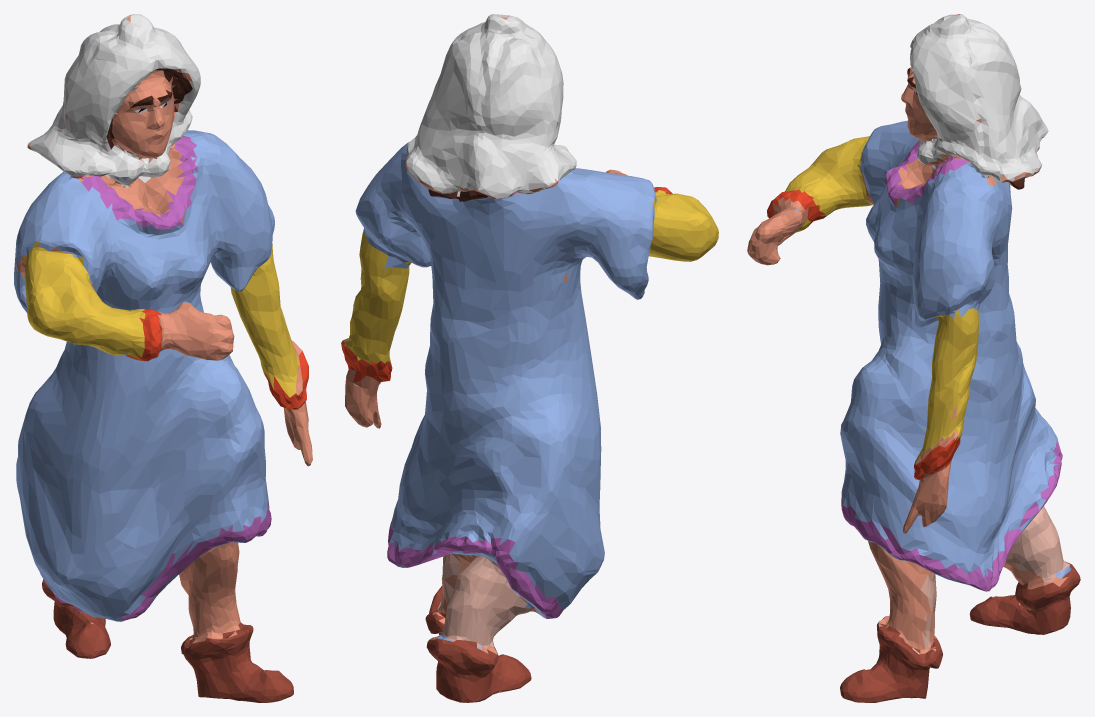
The model's file is MasterTrader_Gunnhild.fbx.
3 renders of one model, left to right at view 1: azimuth 30°, elevation 25°; view 2: azimuth 150°, elevation 25°; view 3: azimuth 270°, elevation 25°, orthographic. The views are drawn at different scales.
Parts seen in each view (by area): view 1: MainBody; view 2: MainBody; view 3: MainBody.
Boxes of the visible parts, bbox=[...] form: MainBody: bbox=[14, 14, 312, 702]; MainBody: bbox=[341, 14, 718, 702]; MainBody: bbox=[747, 14, 1080, 702].
Size of the model in its own units: 1282 by 2591 by 1201.
